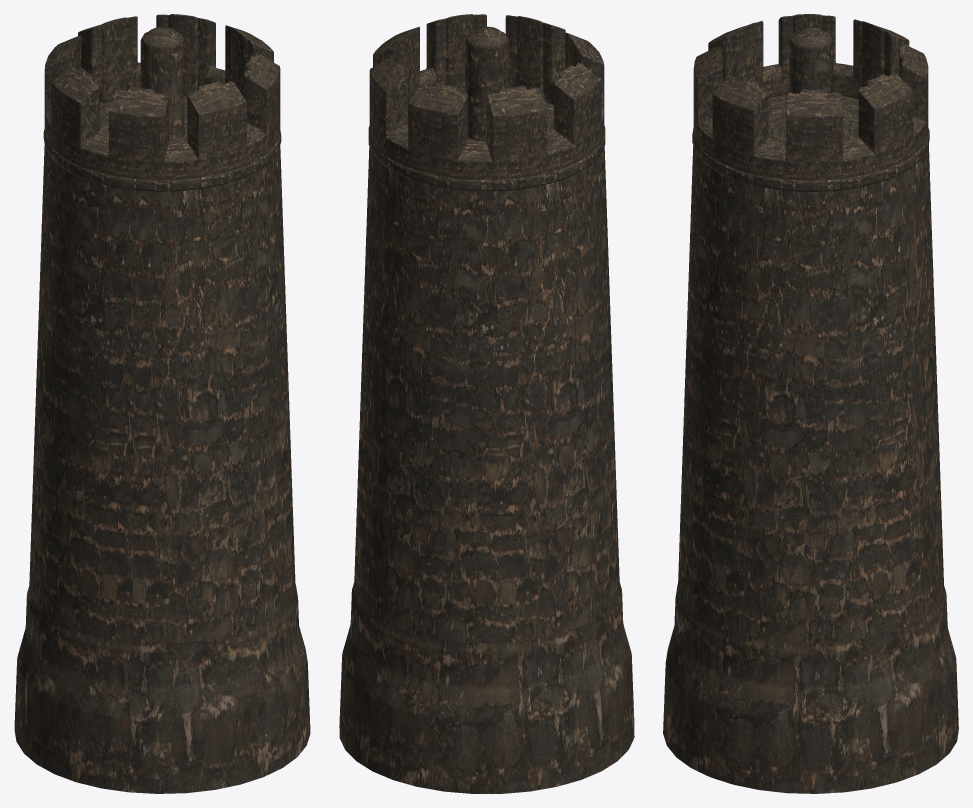
The model's file is block_9.glb.
3 renders of one model, left to right at view 1: azimuth 30°, elevation 25°; view 2: azimuth 150°, elevation 25°; view 3: azimuth 270°, elevation 25°, orthographic.
Visible parts, largest first — view 1: block_9; view 2: block_9; view 3: block_9.
Part boxes in pixels (x1=…): block_9: x1=14, y1=14, x2=310, y2=793; block_9: x1=339, y1=14, x2=634, y2=793; block_9: x1=663, y1=14, x2=958, y2=793.
Bounding box in the file's own units: 4.12 × 10.8 × 4.12.
Materials: 2 (2 with a texture image).
